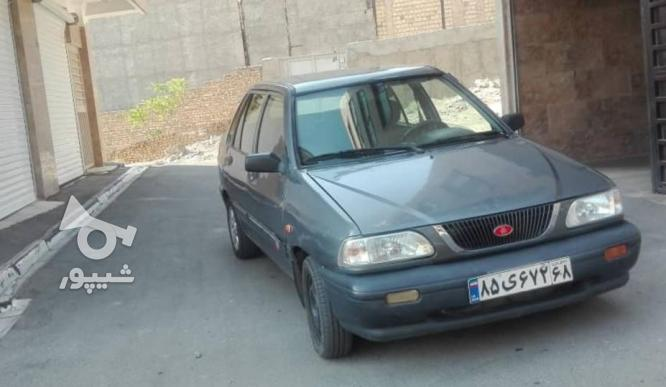car: (464, 254, 574, 303)
